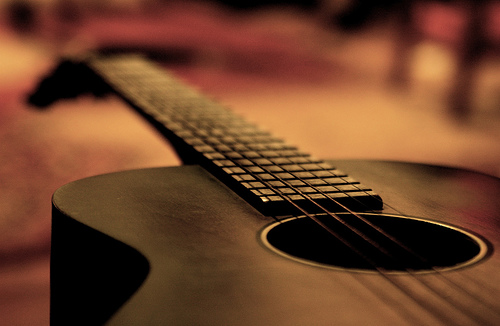guitar: (46, 55, 500, 326)
